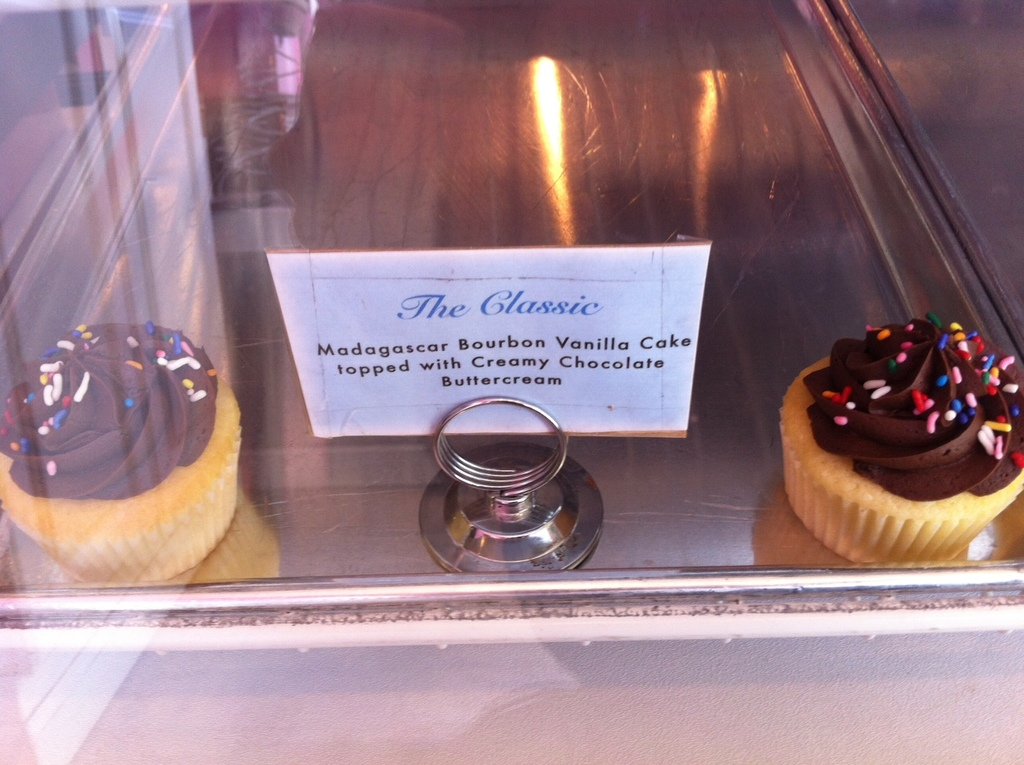cake: (0, 318, 241, 584), (783, 313, 1023, 563)
